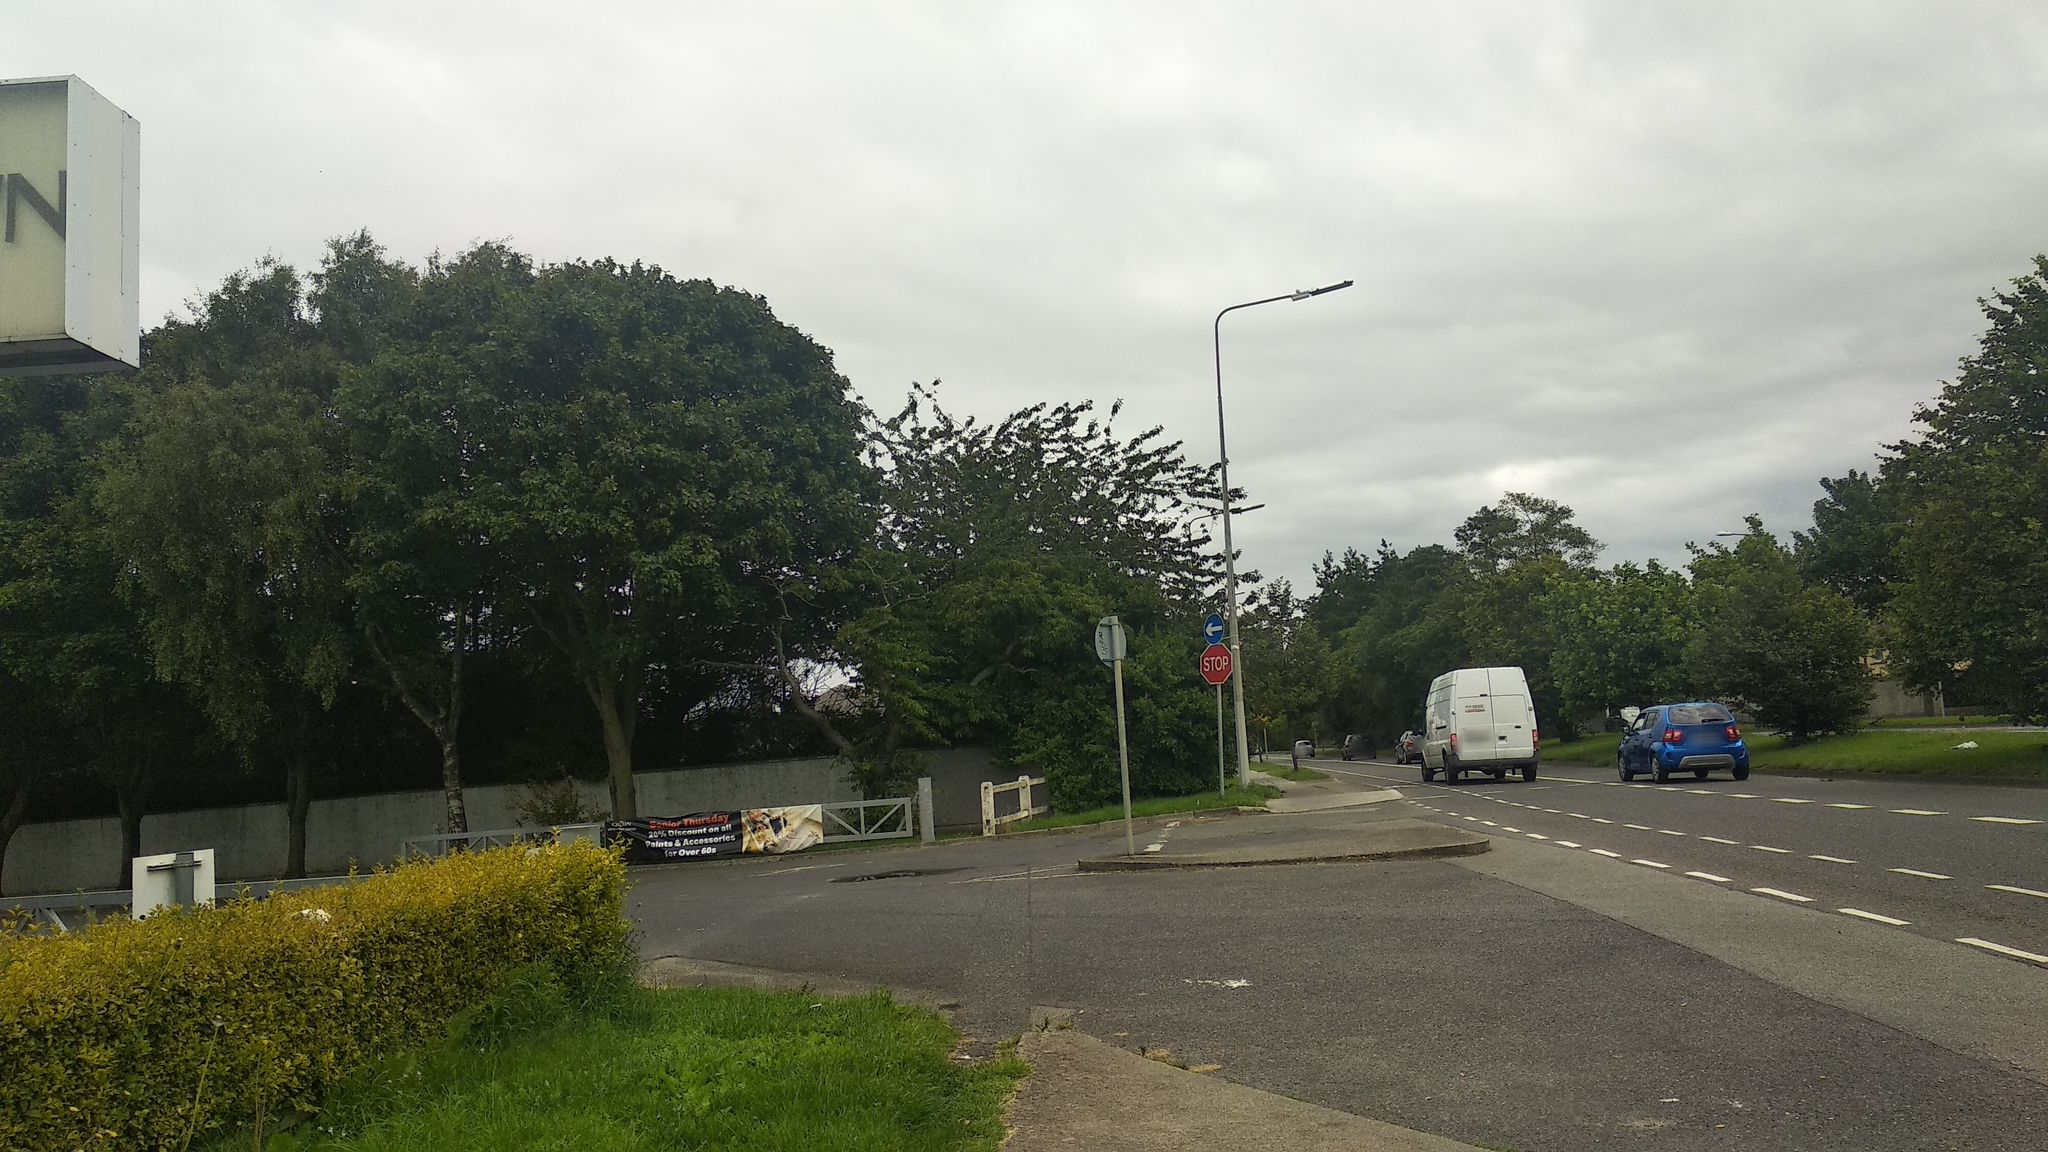vinyl banner: (594, 806, 837, 861)
